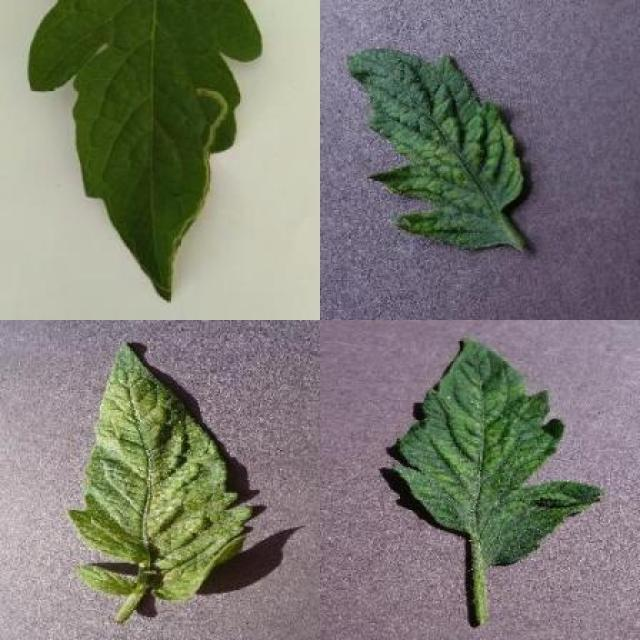Leaf Miner: (27, 0, 263, 306)
Mosaic Virus: (393, 335, 608, 565), (348, 46, 528, 250)
Spider Mites: (68, 342, 252, 599)
